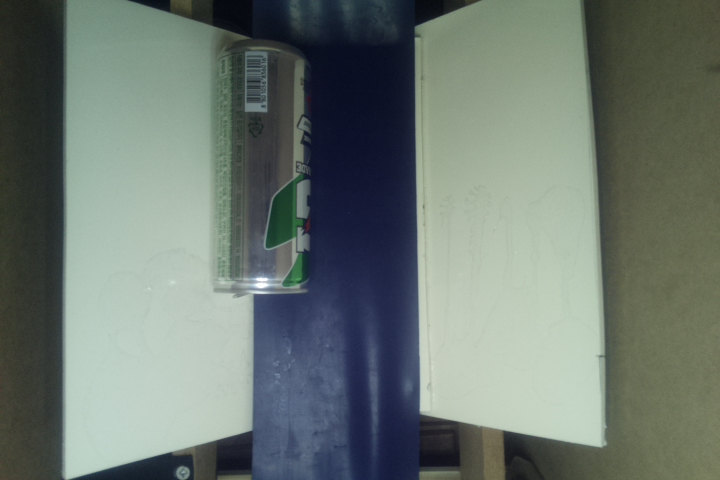can: (206, 40, 315, 298)
